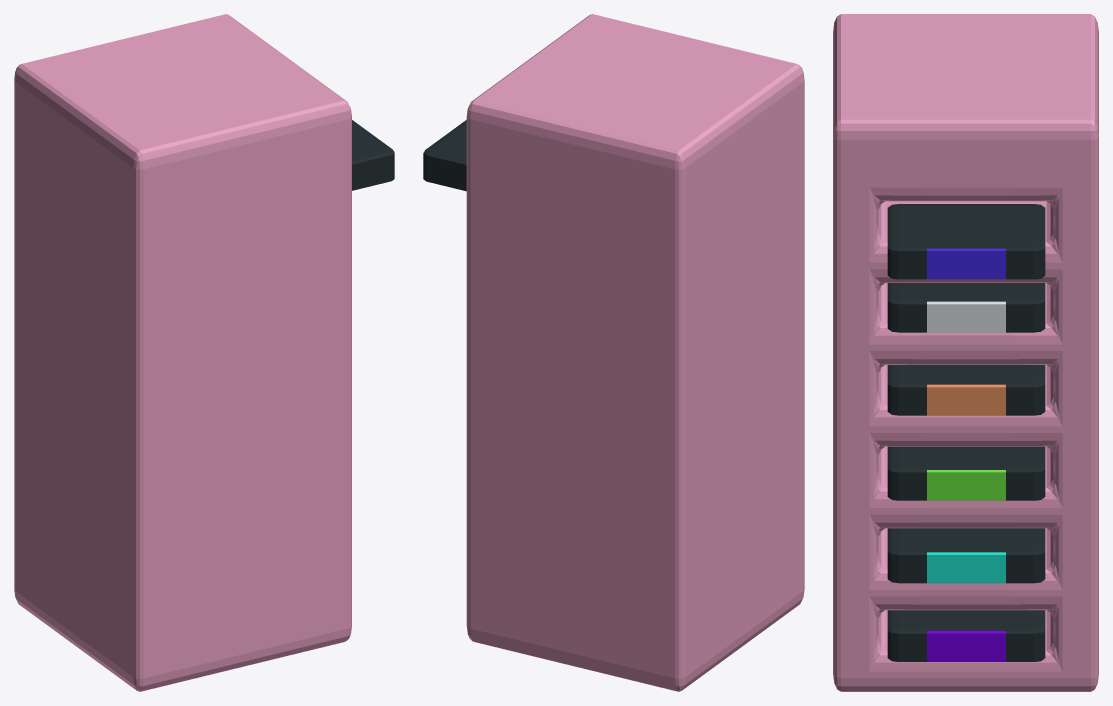
The model's file is shelfState6.glb.
3 views of the same model, side by side, from view 1: azimuth 30°, elevation 25°; view 2: azimuth 150°, elevation 25°; view 3: azimuth 270°, elevation 25° (orthographic). The views are drawn at different scales.
Visible parts, largest first — view 1: Cube, Cube.003; view 2: Cube, Cube.003; view 3: Cube, Cube.003, Cube.005, Cube.004, Cube.006, Cube.001, Cube.002.
Part boxes in pixels (bbox=[...]): Cube: bbox=[14, 14, 351, 691]; Cube.003: bbox=[352, 120, 394, 190]; Cube: bbox=[466, 14, 804, 691]; Cube.003: bbox=[423, 120, 466, 191]; Cube: bbox=[833, 14, 1098, 691]; Cube.003: bbox=[887, 204, 1045, 279]; Cube.005: bbox=[887, 528, 1045, 583]; Cube.004: bbox=[887, 446, 1045, 500]; Cube.006: bbox=[887, 610, 1045, 661]; Cube.001: bbox=[887, 365, 1045, 415]; Cube.002: bbox=[887, 283, 1045, 332].
Size of the model in its own units: 2.64 by 4.76 by 2.
